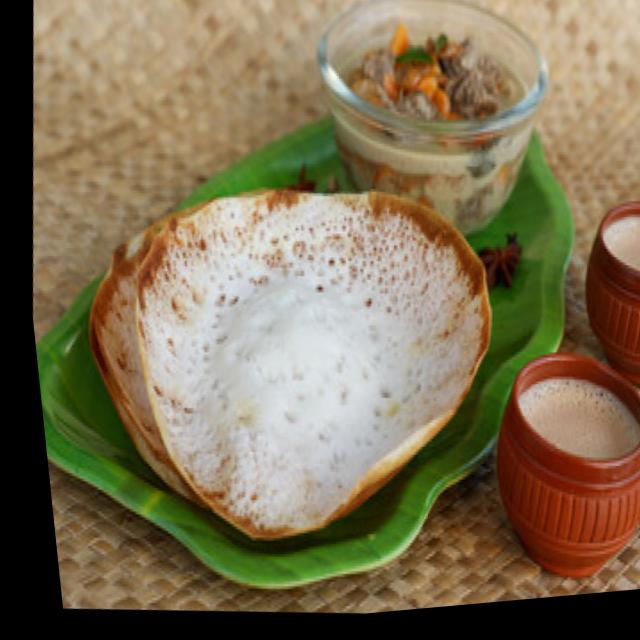AAPAM: (93, 180, 487, 535)
